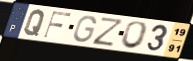3: (145, 24, 169, 54)
F: (41, 10, 73, 39)
G: (72, 15, 98, 44)
O: (119, 20, 150, 51)
Q: (23, 9, 47, 37)
Z: (91, 16, 126, 48)
